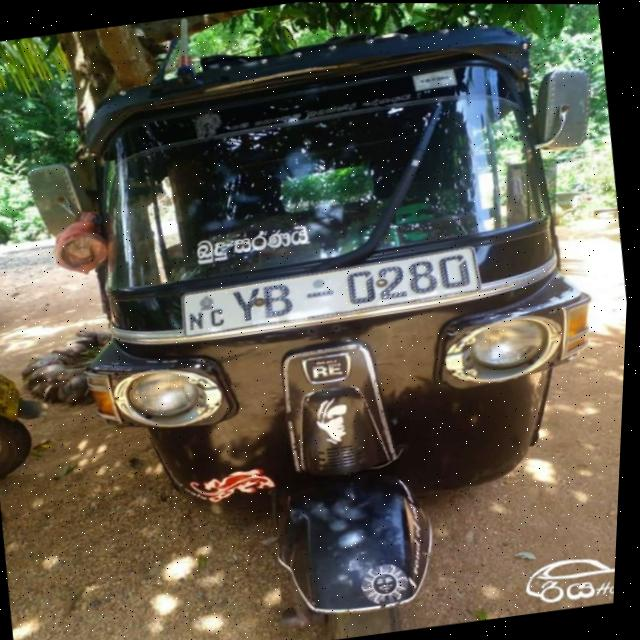cng: (32, 13, 624, 640)
